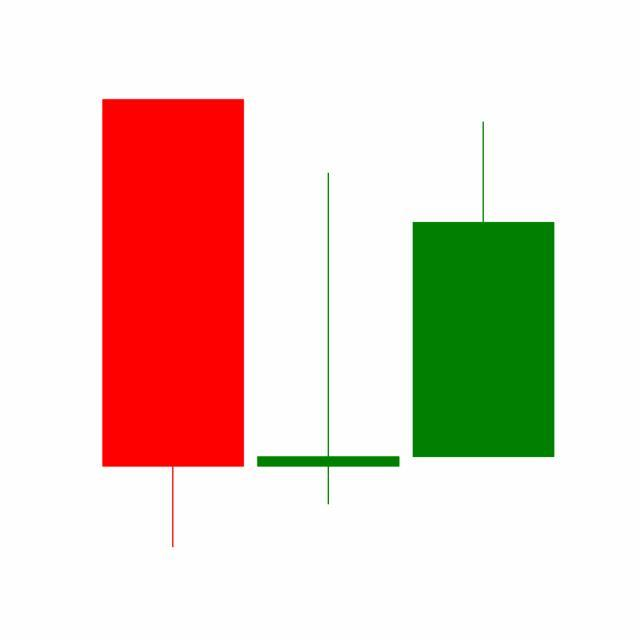Gravestone Doji: (250, 170, 407, 509)
